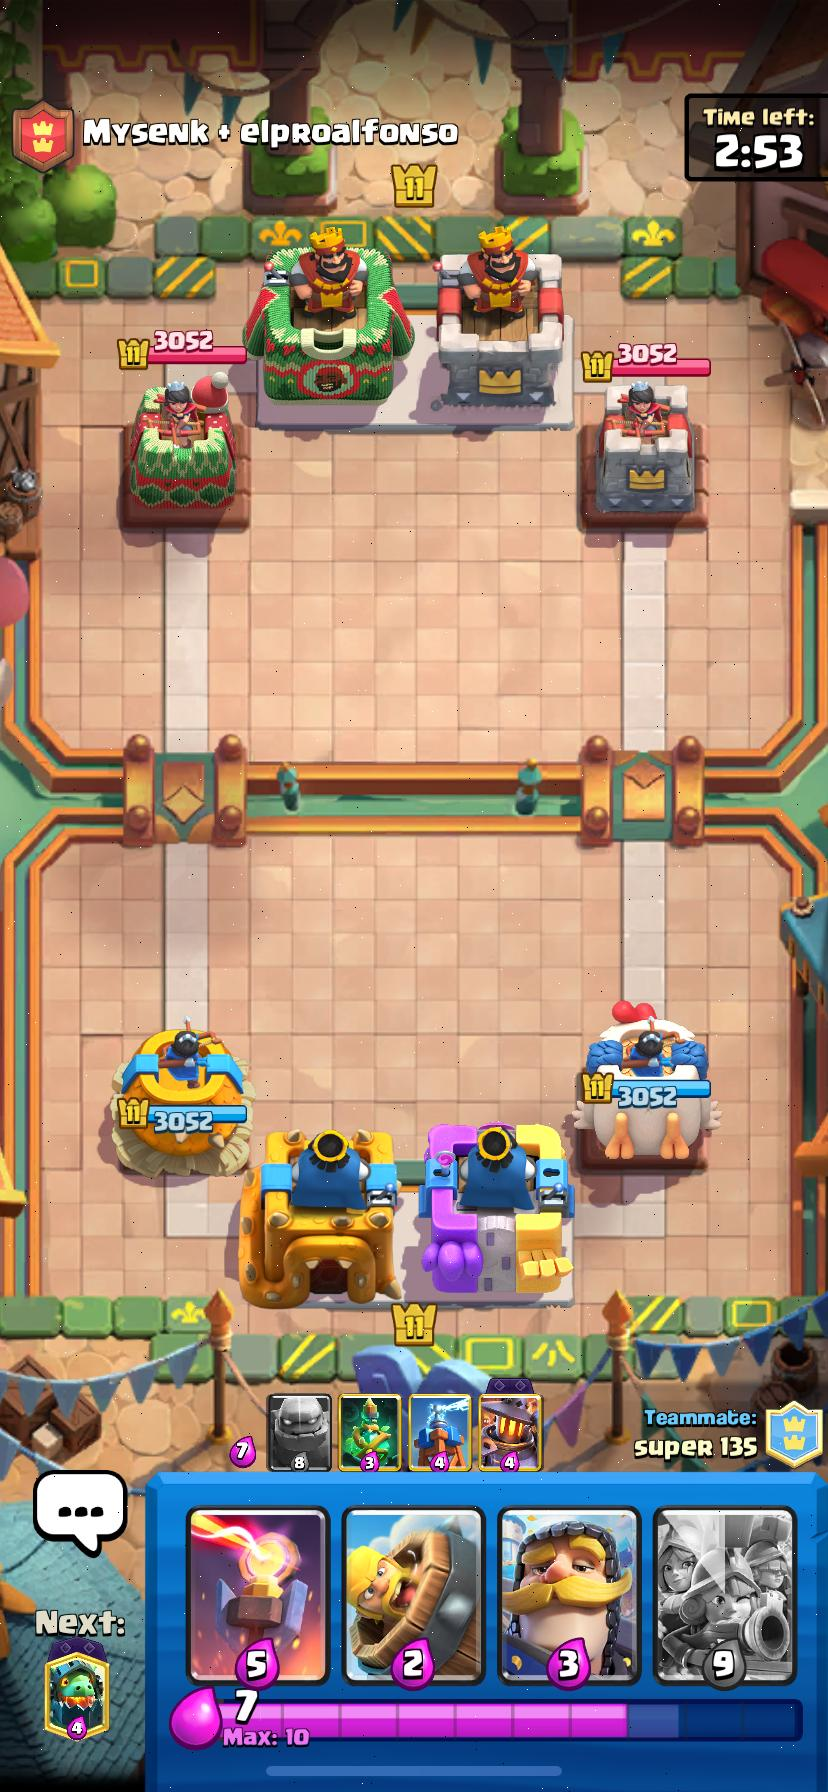EKingTower: (245, 226, 413, 407), (438, 245, 567, 409)
EnemyPrincessTower: (124, 374, 248, 526), (582, 379, 694, 525)
OwnKingTower: (240, 1129, 401, 1306), (419, 1123, 573, 1301)
OwnPrincessTower: (576, 1003, 711, 1166), (113, 1022, 253, 1175)
